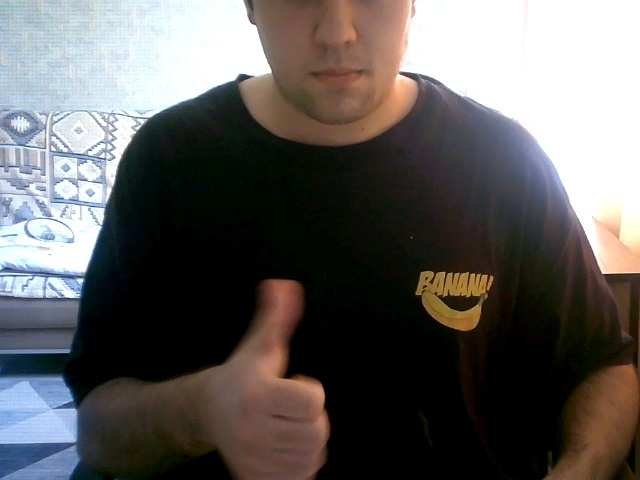good: (225, 275, 331, 479)
